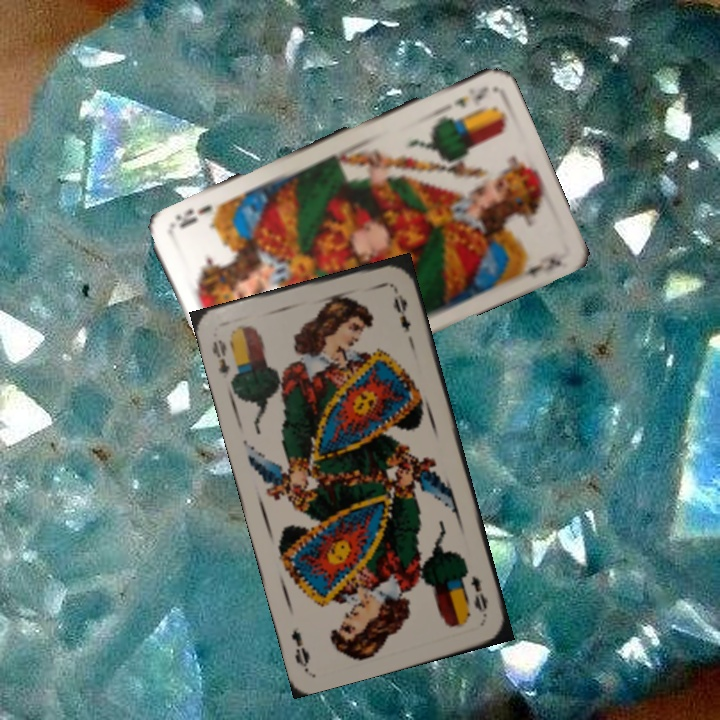EK: (450, 82, 491, 110)
EO: (208, 335, 233, 382), (466, 572, 490, 615)
